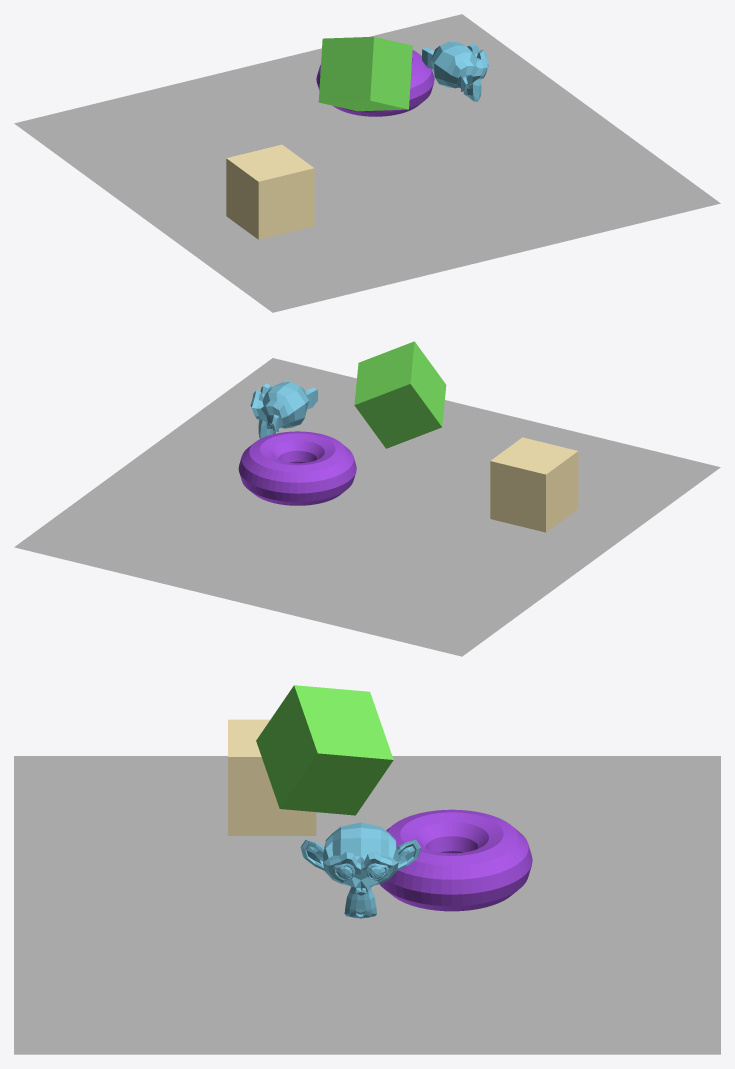
Rendered from shadow_playground.glb.
3 views of the same model, one above another, from view 1: azimuth 30°, elevation 25°; view 2: azimuth 150°, elevation 25°; view 3: azimuth 270°, elevation 25° (orthographic). The views are drawn at different scales.
Visible parts, largest first — view 1: Plane, Cube.001, Cube, Suzanne, Torus; view 2: Plane, Torus, Cube, Cube.001, Suzanne; view 3: Plane, Cube, Torus, Suzanne, Cube.001.
Part boxes in pixels (x1,y1,x2,y2): Plane: (14, 14, 720, 312); Cube.001: (226, 144, 314, 239); Cube: (318, 36, 412, 111); Suzanne: (422, 41, 489, 101); Torus: (316, 50, 434, 116); Plane: (14, 358, 720, 656); Torus: (238, 431, 356, 505); Cube: (354, 341, 446, 448); Cube.001: (490, 437, 578, 532); Suzanne: (250, 382, 317, 438); Plane: (14, 756, 720, 1054); Cube: (256, 685, 393, 815); Torus: (379, 809, 532, 911); Suzanne: (300, 822, 420, 918); Cube.001: (228, 719, 316, 835).
Bounding box in the file's own units: 16.03 × 5.19 × 16.03.
